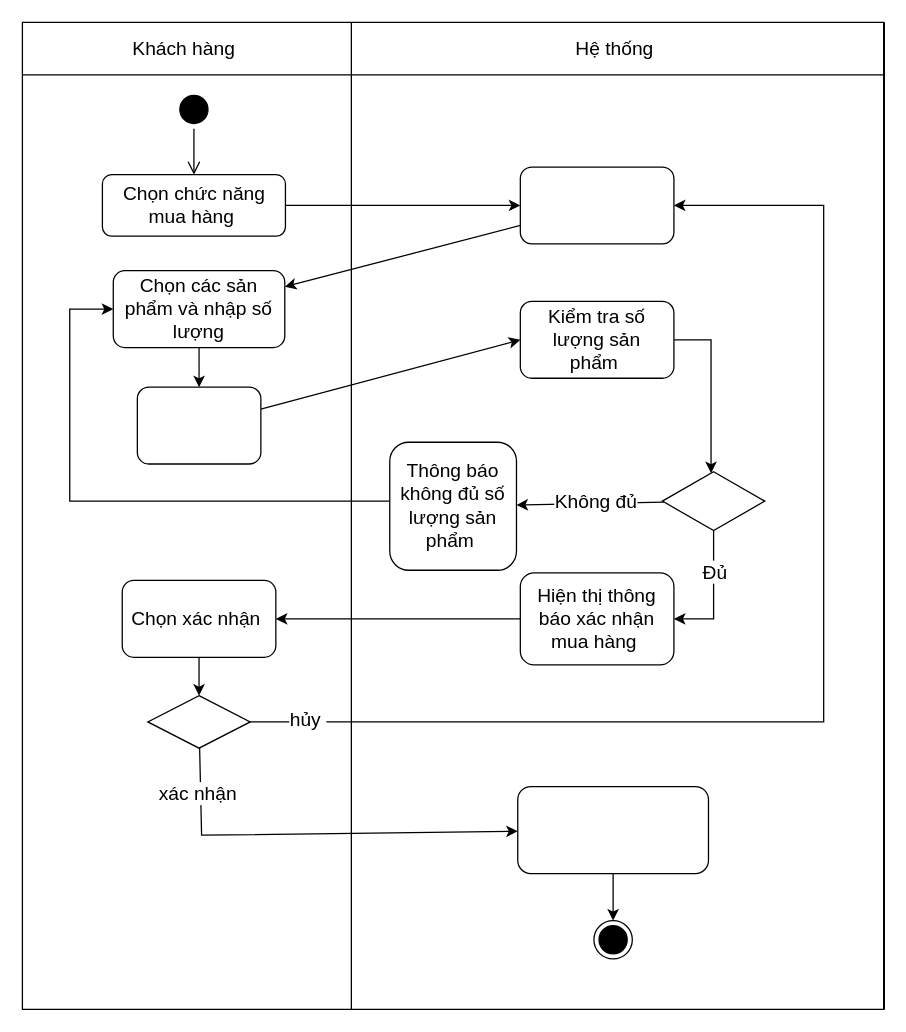
Some shapes in this 906 by 1032 pixel diagram are drawn without their labels. Each missing label, with the box of its shape:
Chọn nút mua hàng: (136, 386, 261, 464)
Hiện thị form giỏ hàng: (519, 166, 674, 244)
Thông báo tạo đơn hàng thành công: (516, 785, 708, 874)
